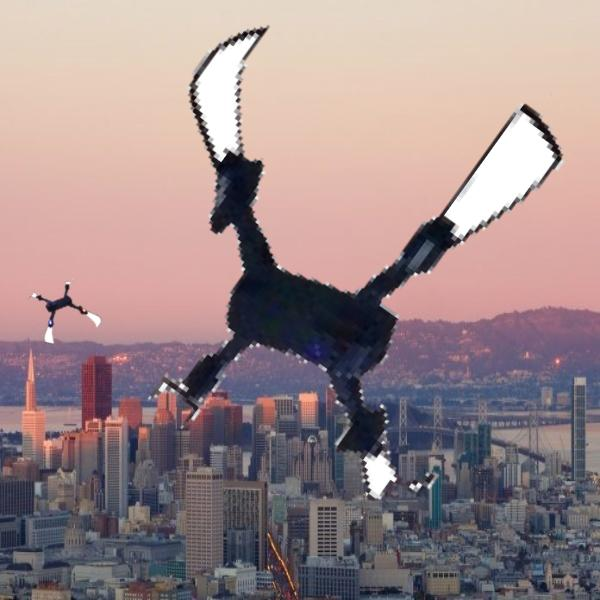drone: (88, 5, 570, 487), (30, 278, 99, 347)
